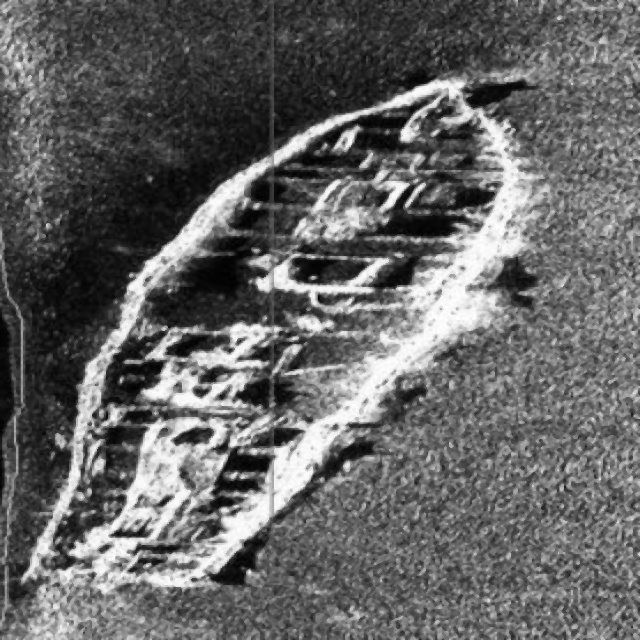Ship: (12, 56, 538, 607)
